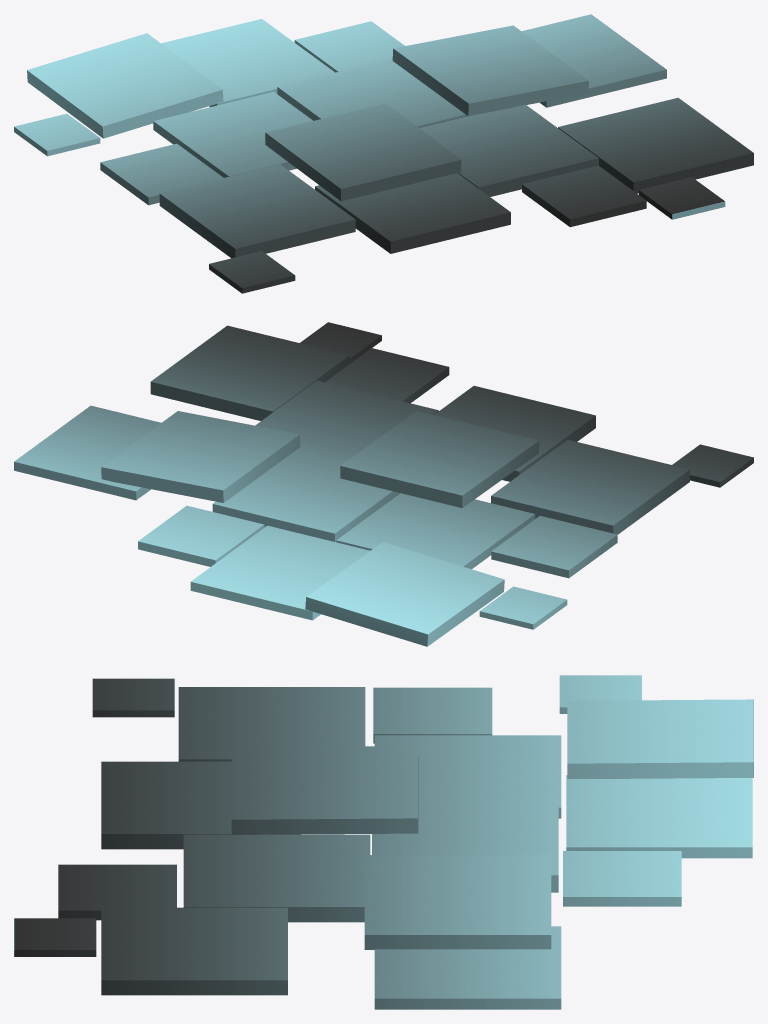
The model's file is Tiles.FBX.
3 views of the same model, one above another, from view 1: azimuth 30°, elevation 25°; view 2: azimuth 150°, elevation 25°; view 3: azimuth 270°, elevation 25° (orthographic). The views are drawn at different scales.
Parts seen in each view (by area): view 1: Box001; view 2: Box001; view 3: Box001.
Part boxes in pixels (<box>): Box001: <box>14,14,753,293</box>; Box001: <box>14,322,753,646</box>; Box001: <box>14,675,753,1009</box>.
Size of the model in its own units: 110 by 5.2 by 105.
1 material, 1 textured.
